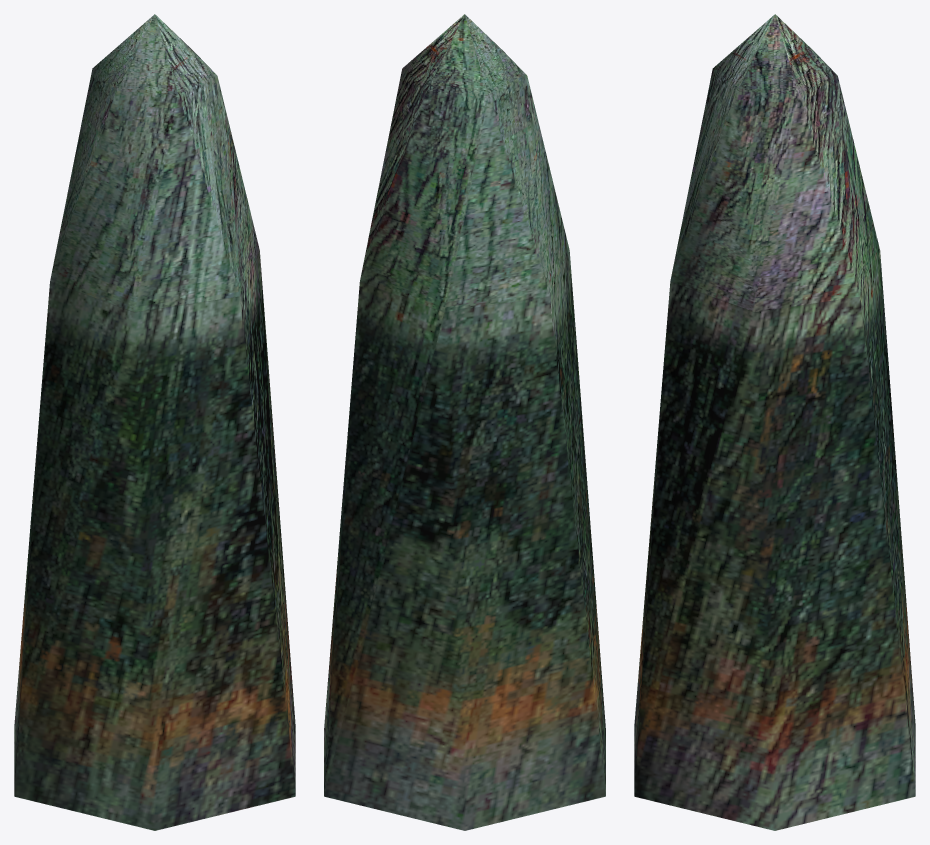
The model's file is decd_treeknee_l1.fbx.
3 views of the same model, side by side, from view 1: azimuth 30°, elevation 25°; view 2: azimuth 150°, elevation 25°; view 3: azimuth 270°, elevation 25° (orthographic).
Visible parts, largest first — view 1: mesh_node; view 2: mesh_node; view 3: mesh_node.
Part boxes in pixels (left/top/right/bottom): mesh_node: left=14, top=14, right=295, bottom=830; mesh_node: left=324, top=14, right=605, bottom=830; mesh_node: left=634, top=14, right=915, bottom=830.
Size of the model in its own units: 2.21 by 5.62 by 1.92.
